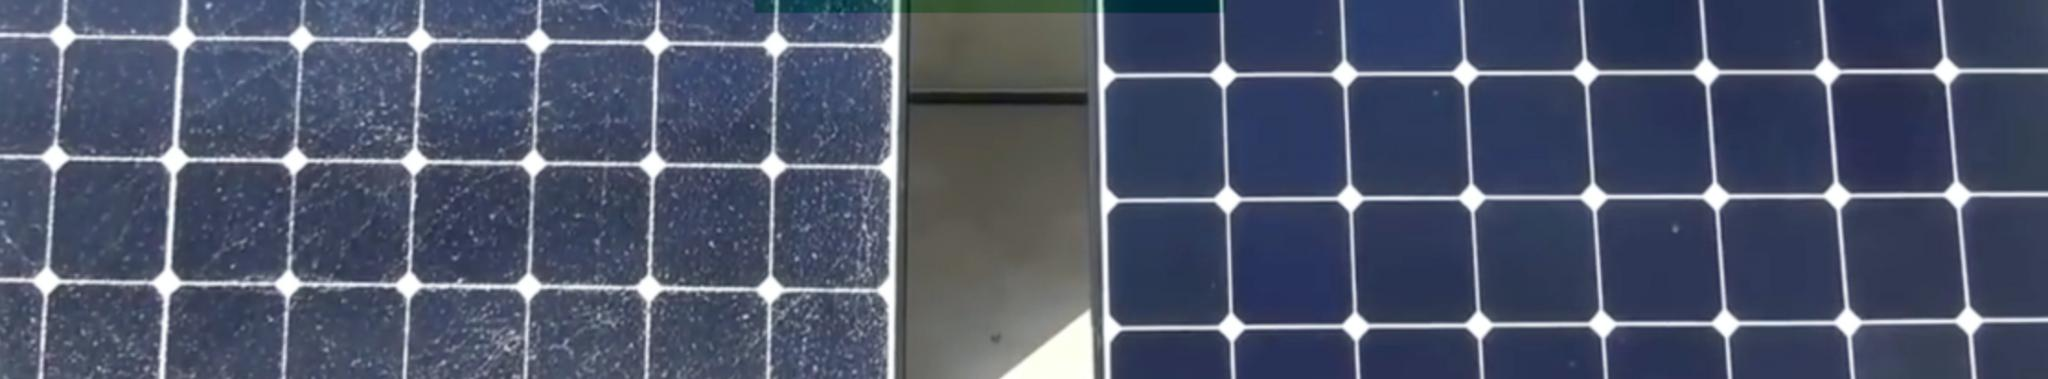Crack: (266, 14, 423, 175), (453, 263, 649, 378), (772, 167, 883, 335)
